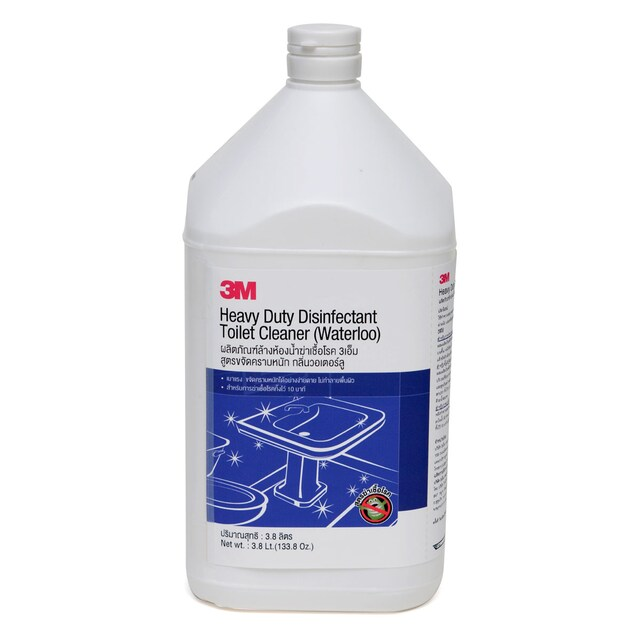Cleaning_solution: (179, 18, 463, 623)
